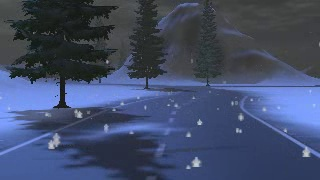Lane: (1, 86, 319, 179)
